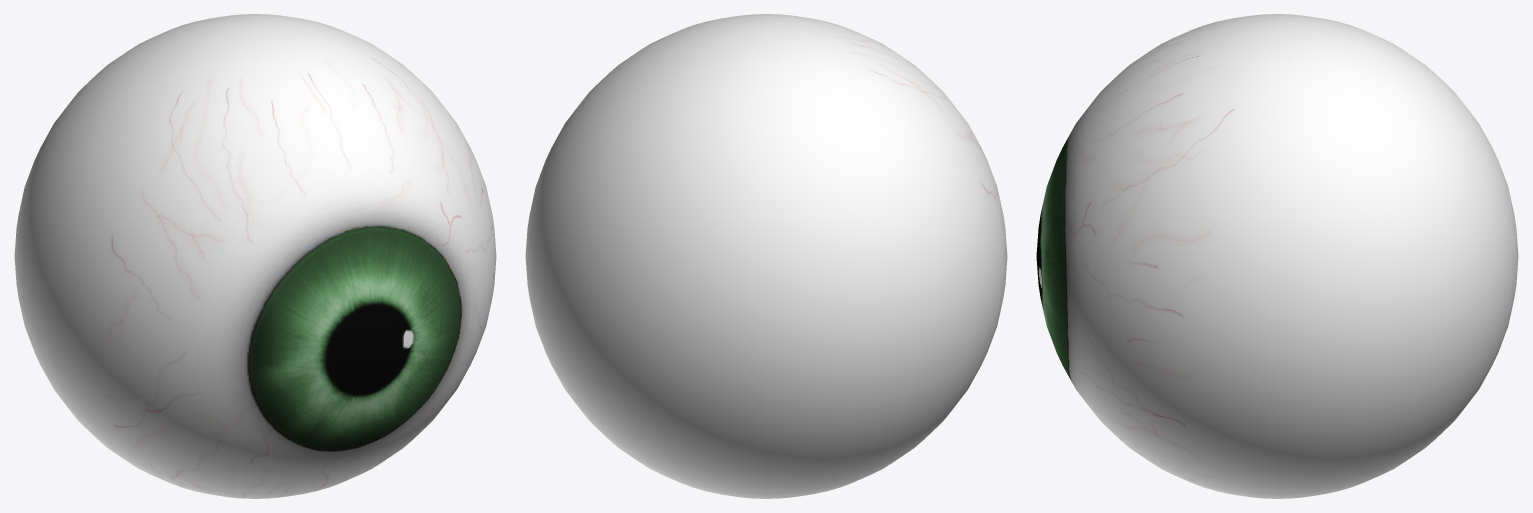
The model's file is eye_01.FBX.
3 views of the same model, side by side, from view 1: azimuth 30°, elevation 25°; view 2: azimuth 150°, elevation 25°; view 3: azimuth 270°, elevation 25° (orthographic).
Parts seen in each view (by area): view 1: eye; view 2: eye; view 3: eye.
Boxes of the visible parts, box(x1,y1,x2,y2) form: eye: box(14, 14, 496, 498); eye: box(525, 14, 1007, 498); eye: box(1036, 14, 1518, 498).
Bounding box in the file's own units: 2.33 × 2.37 × 2.33.
